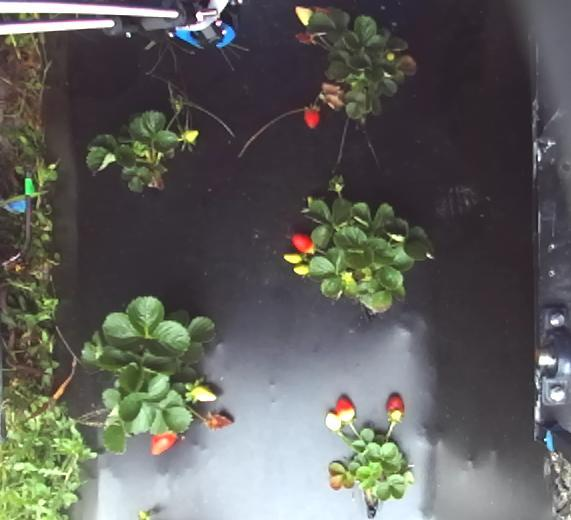mature: (149, 430, 178, 455), (384, 391, 405, 424), (290, 232, 315, 254), (337, 395, 356, 422), (302, 104, 321, 129)
